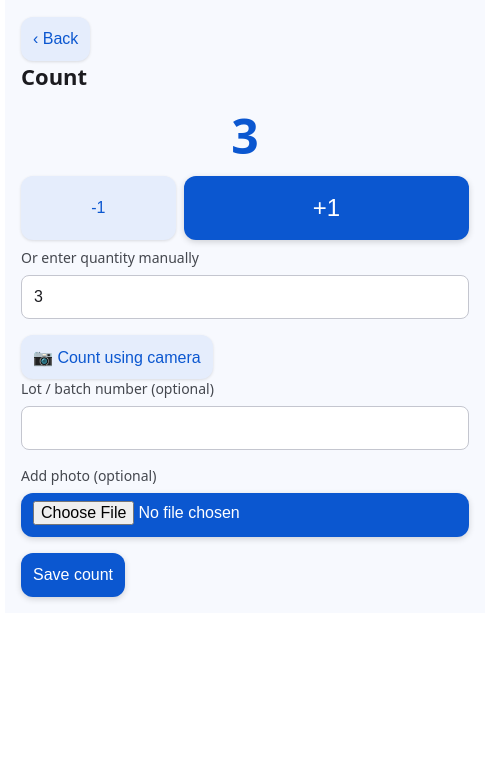
Scenario: CountingScreen › offers a "Count using camera" option that opens and can be cancelled without affecting the tap counter
Click the button "📷 Count using camera": x=117, y=357 [21, 335, 213, 379]
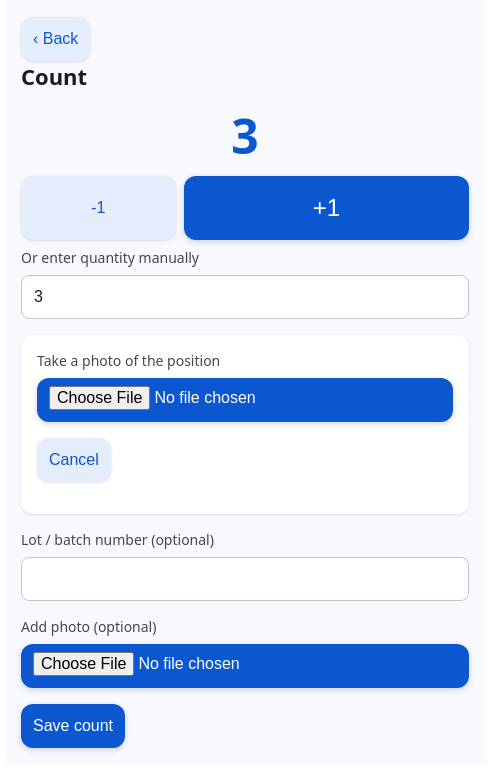
Now the file field labelled "Take a photo of the position" is shown, box [37, 378, 453, 422]
Click the button "Cancel": x=74, y=460 [37, 438, 111, 482]
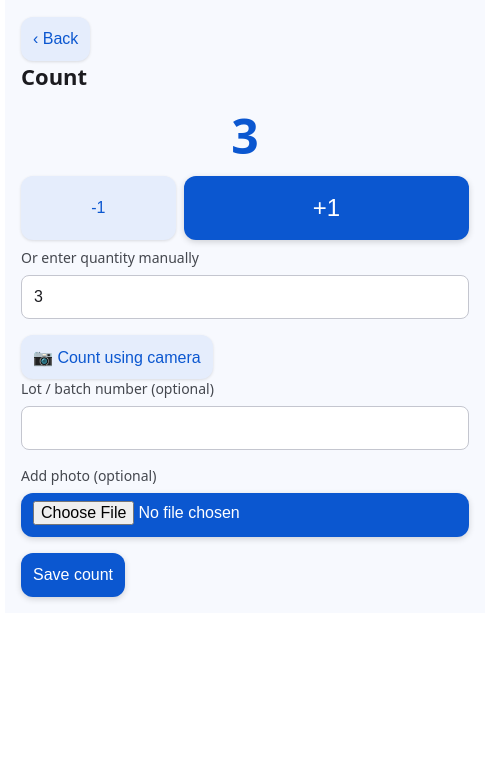
Expected: the text "3" is shown, [231, 103, 259, 168]
Now the label labelled "Take a photo of the position" is gone
